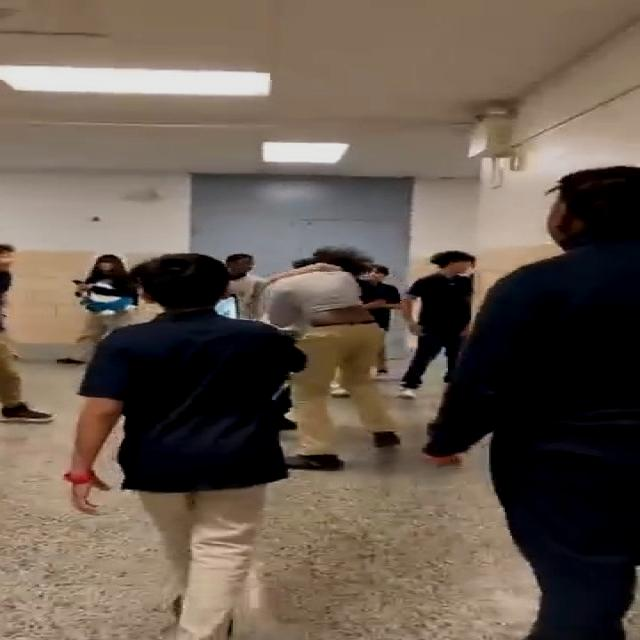fight: (249, 245, 425, 472)
